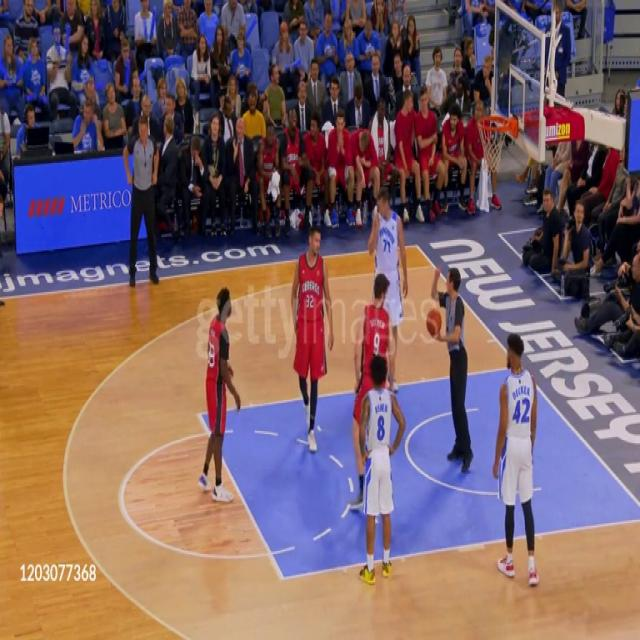ball: (426, 308, 442, 336)
